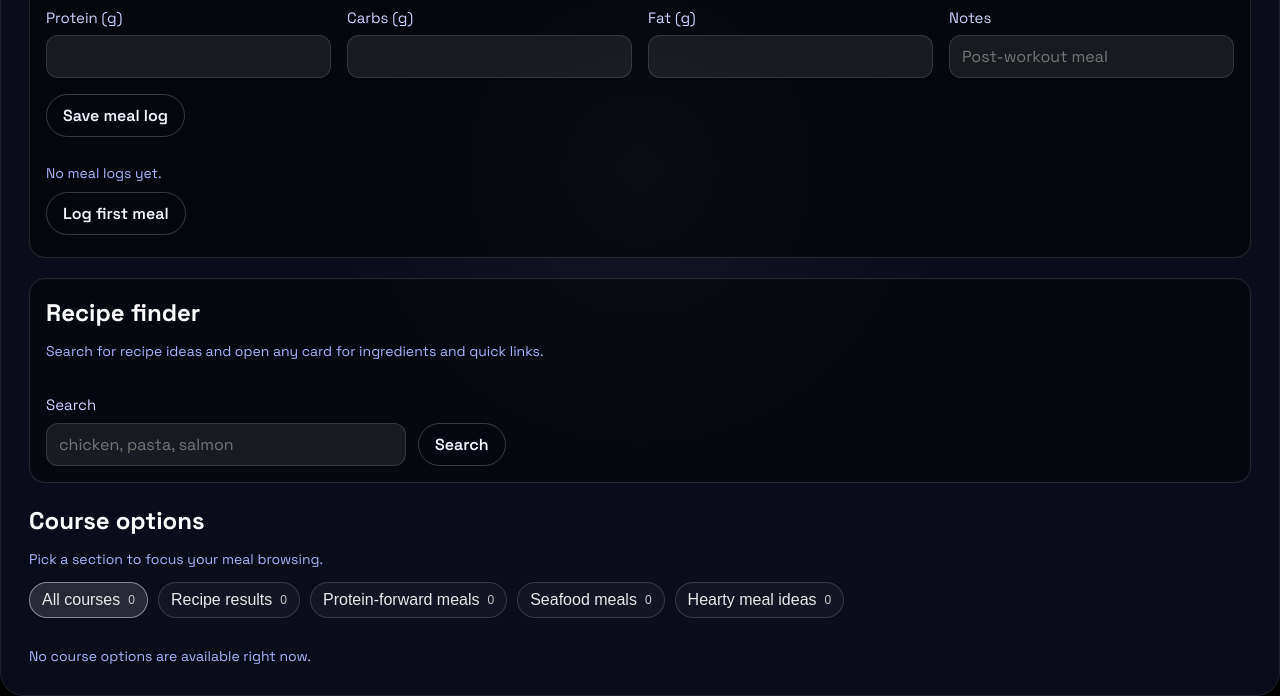
Scenario: MealView › the recipe search › its section tells the visitor to search before one is run
The image size is (1280, 696).
(page scrolled)
Expected: the button "Protein-forward meals 0" is shown, x1=310 y1=582 x2=507 y2=618
Click the button "Recipe results 0": [229, 600] box x1=158 y1=582 x2=300 y2=618
(page scrolled)
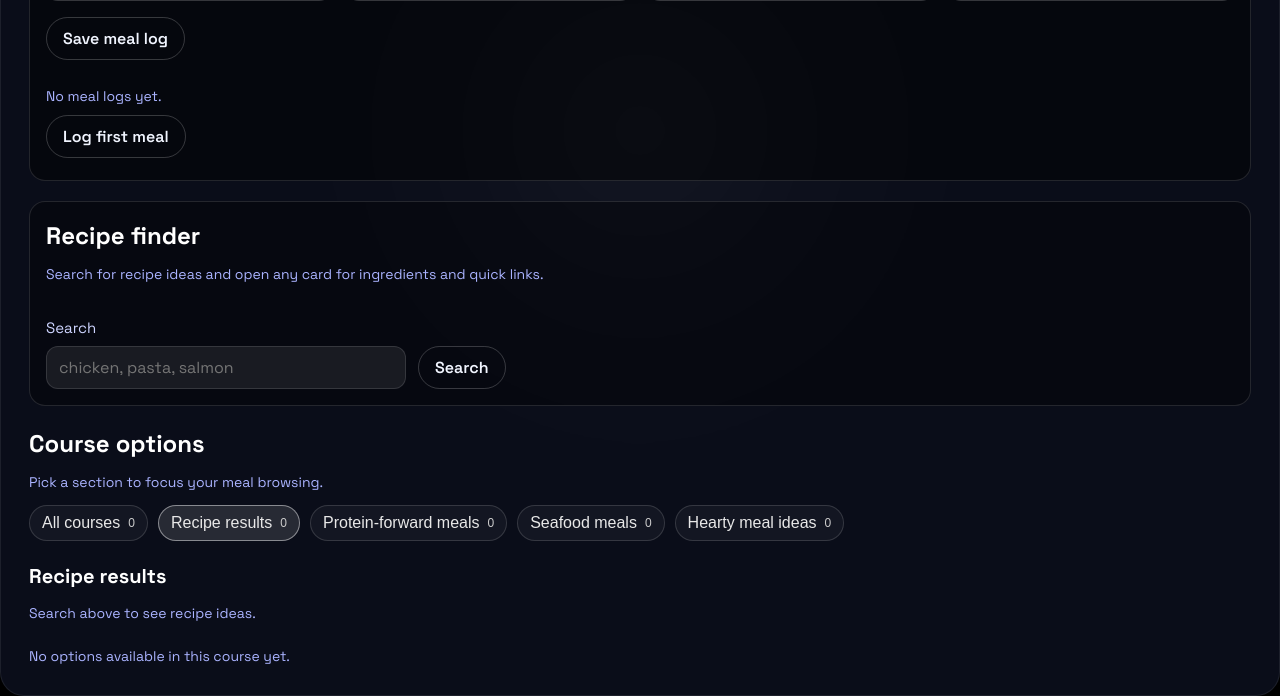
Now the text "Search above to see recipe ideas." is shown, box x1=29 y1=604 x2=256 y2=622
